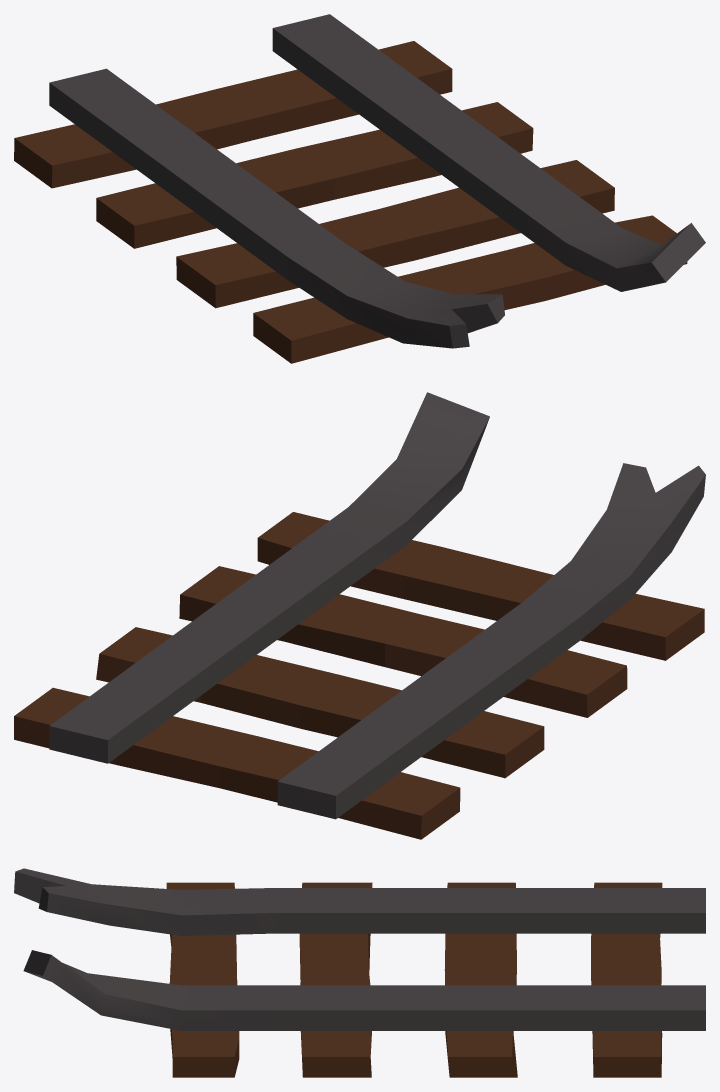
File: track_broken_2.fbx
3 renders of one model, top to bottom at view 1: azimuth 30°, elevation 25°; view 2: azimuth 150°, elevation 25°; view 3: azimuth 270°, elevation 25°, orthographic. The views are drawn at different scales.
Parts seen in each view (by area): view 1: track_straight.003; view 2: track_straight.003; view 3: track_straight.003.
Part boxes in pixels (x1,y1,x2,y2): track_straight.003: [14, 14, 705, 363]; track_straight.003: [14, 392, 705, 839]; track_straight.003: [14, 868, 705, 1077].
Size of the model in its own units: 240 by 61.37 by 403.
